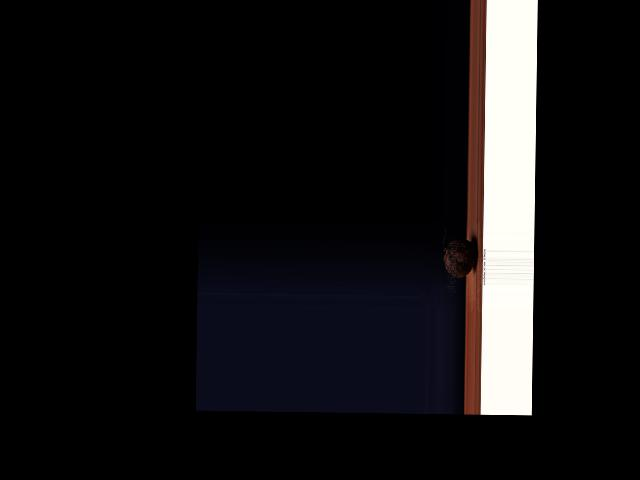beet: (442, 226, 477, 277)
